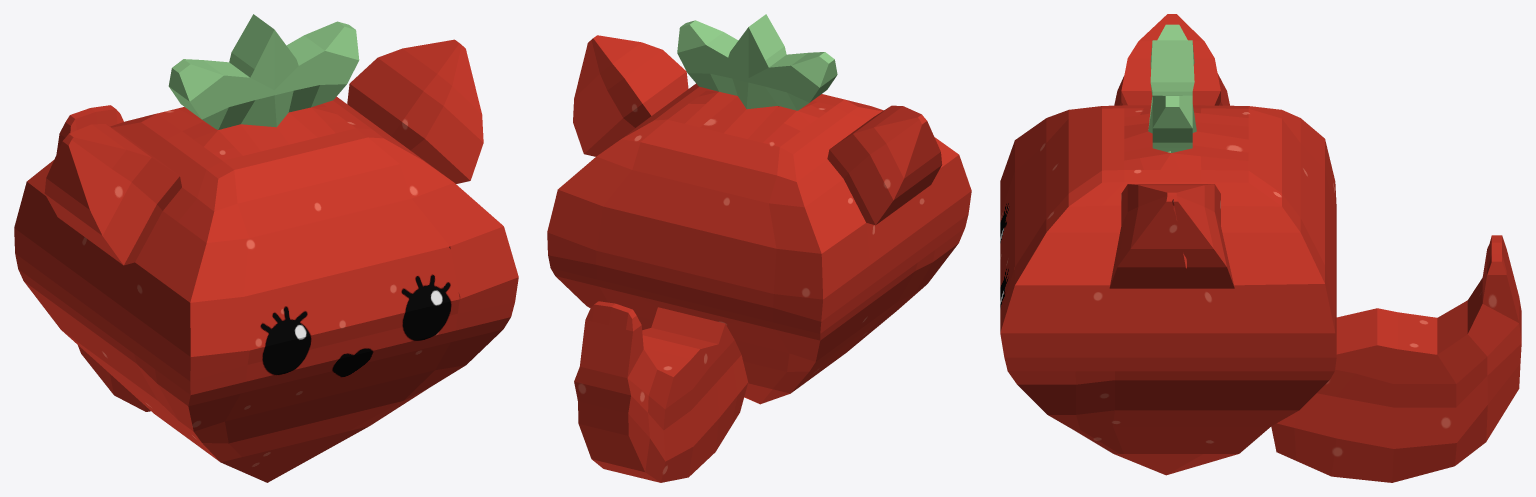
File: squilly_model.fbx
The picture shows the model from 3 angles, left to right: view 1: azimuth 30°, elevation 25°; view 2: azimuth 150°, elevation 25°; view 3: azimuth 270°, elevation 25°; orthographic projection. The views are drawn at different scales.
Parts seen in each view (by area): view 1: shao_main1; view 2: shao_main1; view 3: shao_main1.
Boxes of the visible parts, x1,y1,x2,y2 form: shao_main1: [14, 14, 518, 482]; shao_main1: [547, 14, 971, 482]; shao_main1: [1000, 14, 1521, 482].
Size of the model in its own units: 17.84 by 19.68 by 21.37.
1 material, 1 textured.
